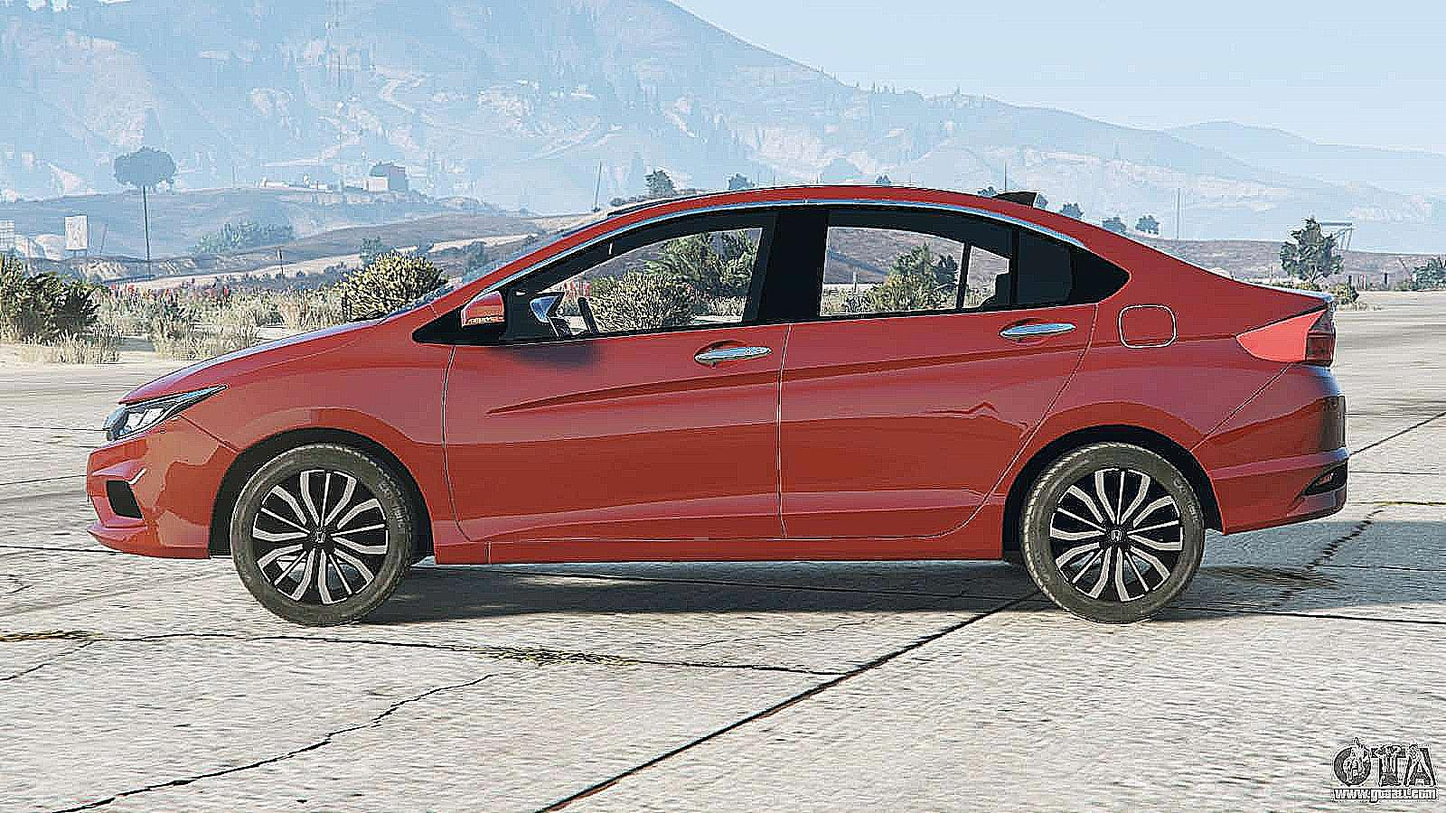Car hood: (116, 306, 403, 408)
Fender - -F-L-: (181, 297, 465, 557)
Fender - -R-L-: (980, 289, 1291, 510)
Front bumper: (76, 412, 257, 574)
Headlight - -L-: (89, 376, 237, 453)
Passenger-s door - -F-L-: (444, 189, 786, 548)
Passenger-s door - -R-L-: (783, 187, 1097, 553)
Rear bumper: (1182, 358, 1363, 545)
Rear light - -L-: (1222, 287, 1356, 377)
Side bumper - -L-: (407, 484, 1020, 579)
Side mirror - -L-: (452, 273, 517, 356)
